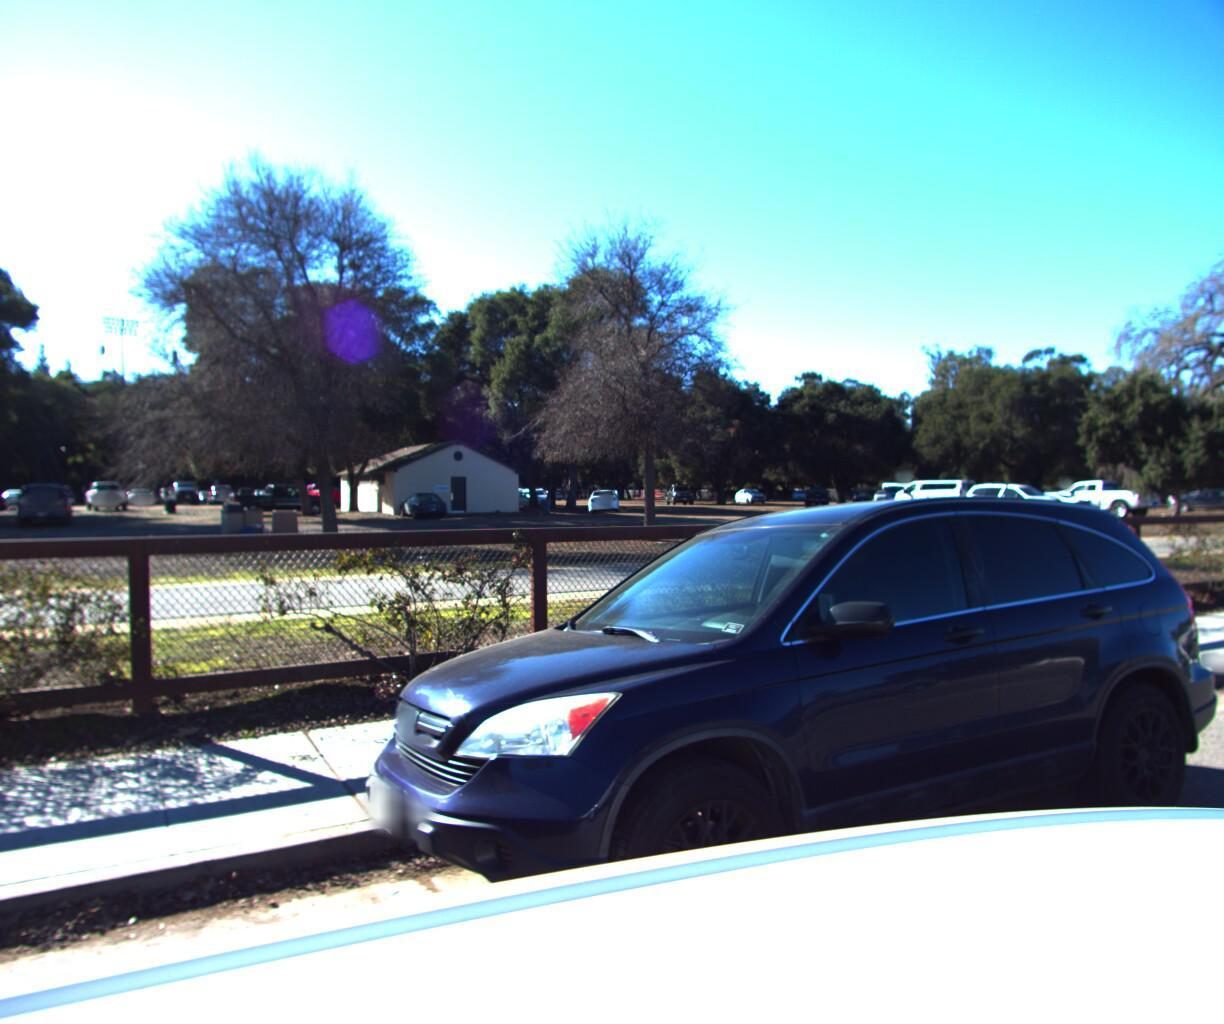car: (313, 485, 1224, 1024)
